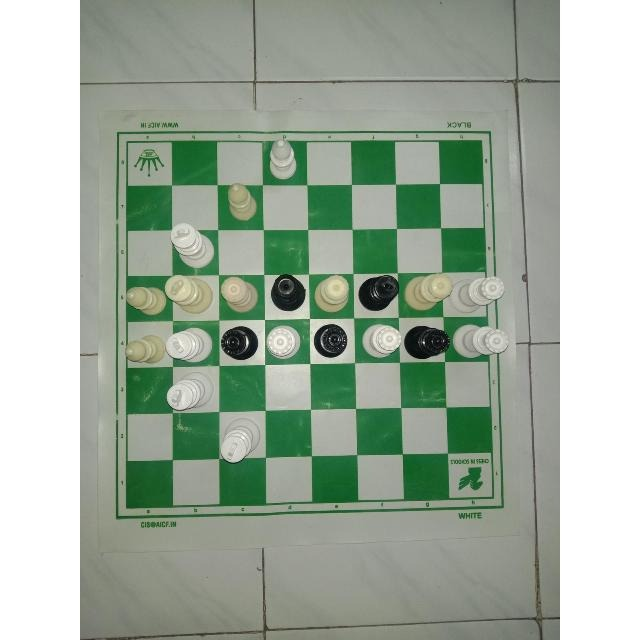black-king: (355, 269, 401, 314)
black-queen: (400, 322, 452, 361), (219, 320, 265, 364), (265, 270, 309, 310), (312, 319, 356, 359)
white-bishop: (124, 274, 166, 319), (121, 333, 168, 371), (262, 135, 300, 181), (223, 181, 262, 223)
white-king: (166, 220, 216, 272), (164, 273, 216, 319), (164, 369, 214, 415), (216, 415, 261, 464), (165, 324, 215, 365)
white-queen: (451, 323, 513, 359), (451, 275, 506, 313), (404, 270, 450, 314), (265, 320, 311, 364), (357, 316, 399, 362), (220, 275, 264, 317), (312, 275, 352, 317)
